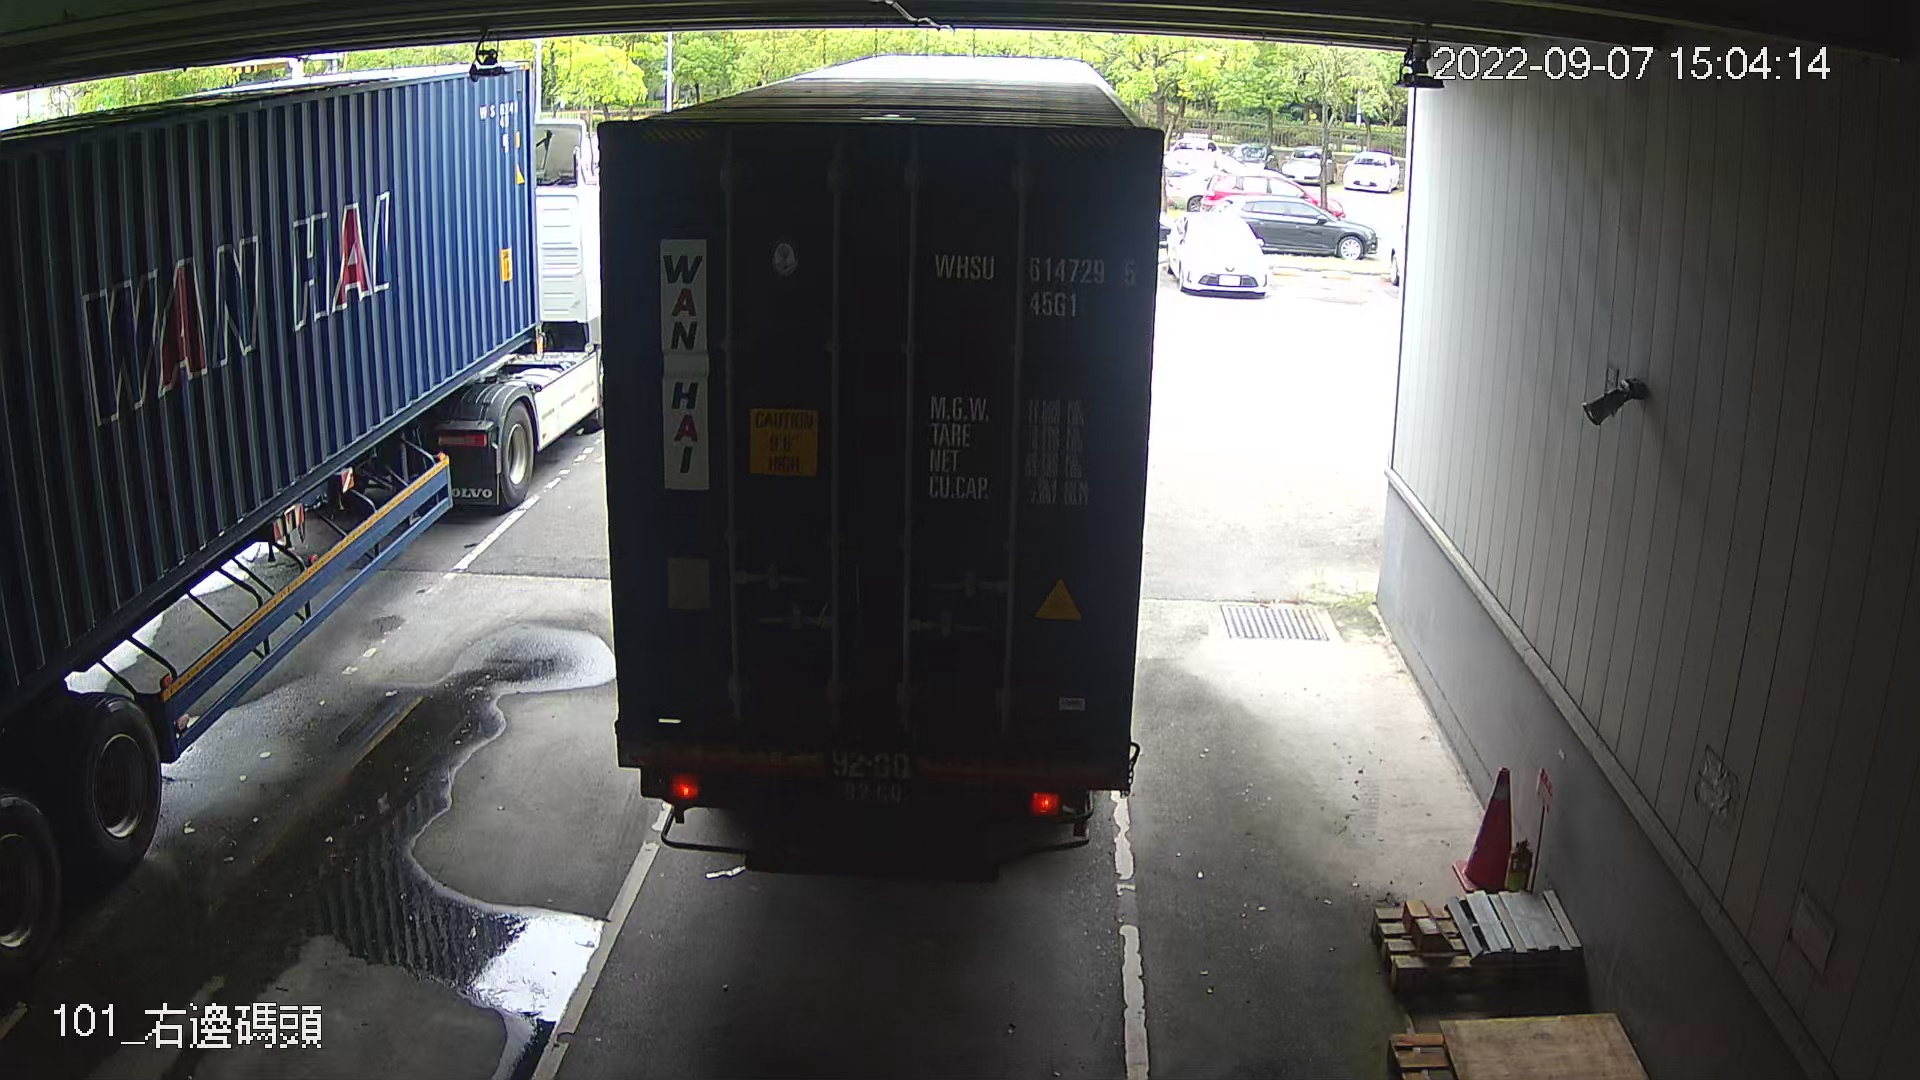container: (919, 239, 1142, 324)
